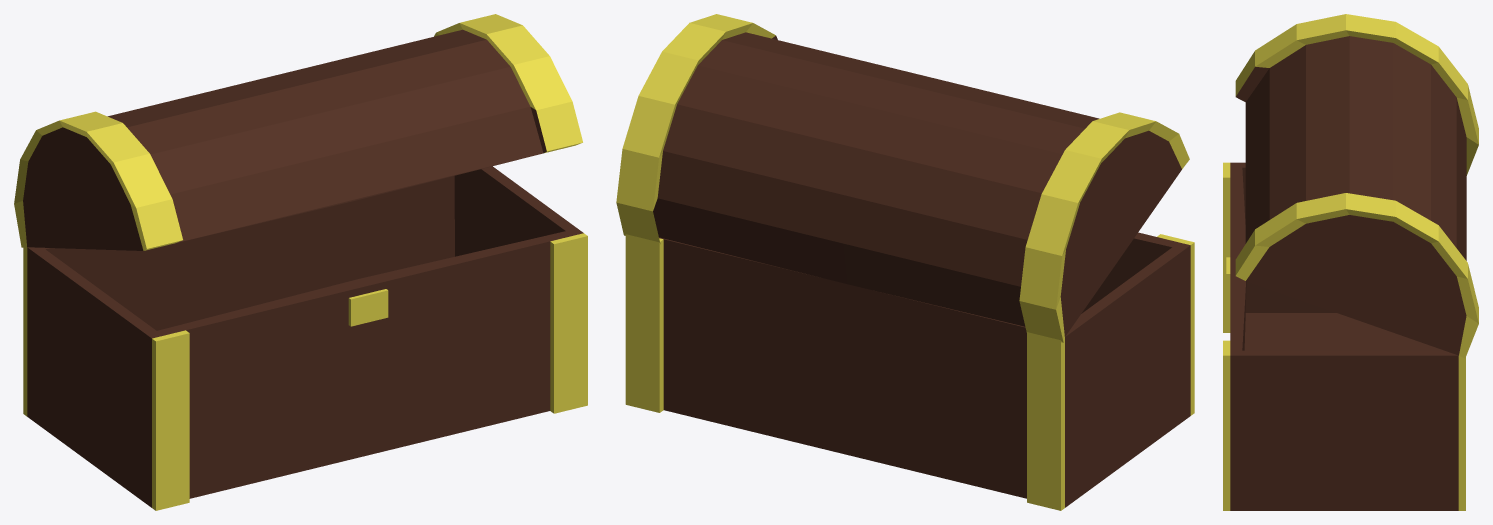
The model's file is chest.fbx.
3 renders of one model, left to right at view 1: azimuth 30°, elevation 25°; view 2: azimuth 150°, elevation 25°; view 3: azimuth 270°, elevation 25°, orthographic. The views are drawn at different scales.
Visible parts, largest first — view 1: Bottom, Lid, Lock; view 2: Lid, Bottom; view 3: Lid, Bottom.
Part boxes in pixels (bbox=[...]): Bottom: bbox=[23, 166, 587, 510]; Lid: bbox=[14, 14, 582, 250]; Lock: bbox=[348, 289, 388, 326]; Lid: bbox=[616, 14, 1189, 342]; Bottom: bbox=[625, 232, 1194, 510]; Lid: bbox=[1235, 14, 1478, 358]; Bottom: bbox=[1223, 162, 1465, 510].
Bounding box in the file's own units: 404 × 292 × 224.
